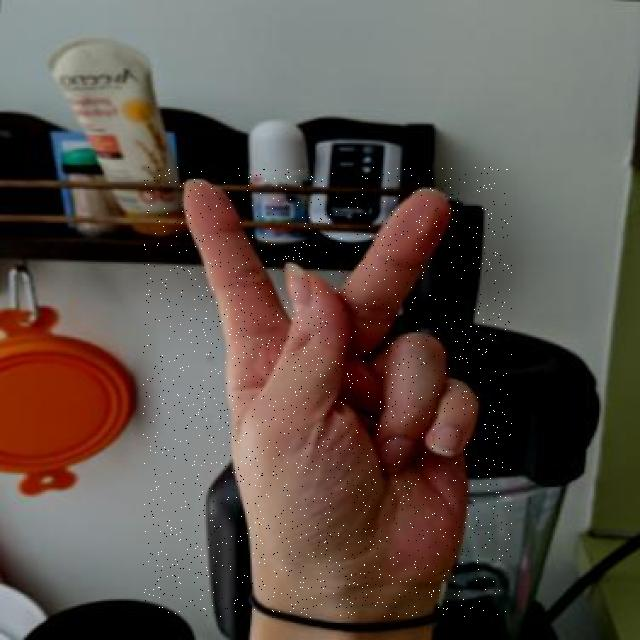K: (143, 167, 512, 618)
